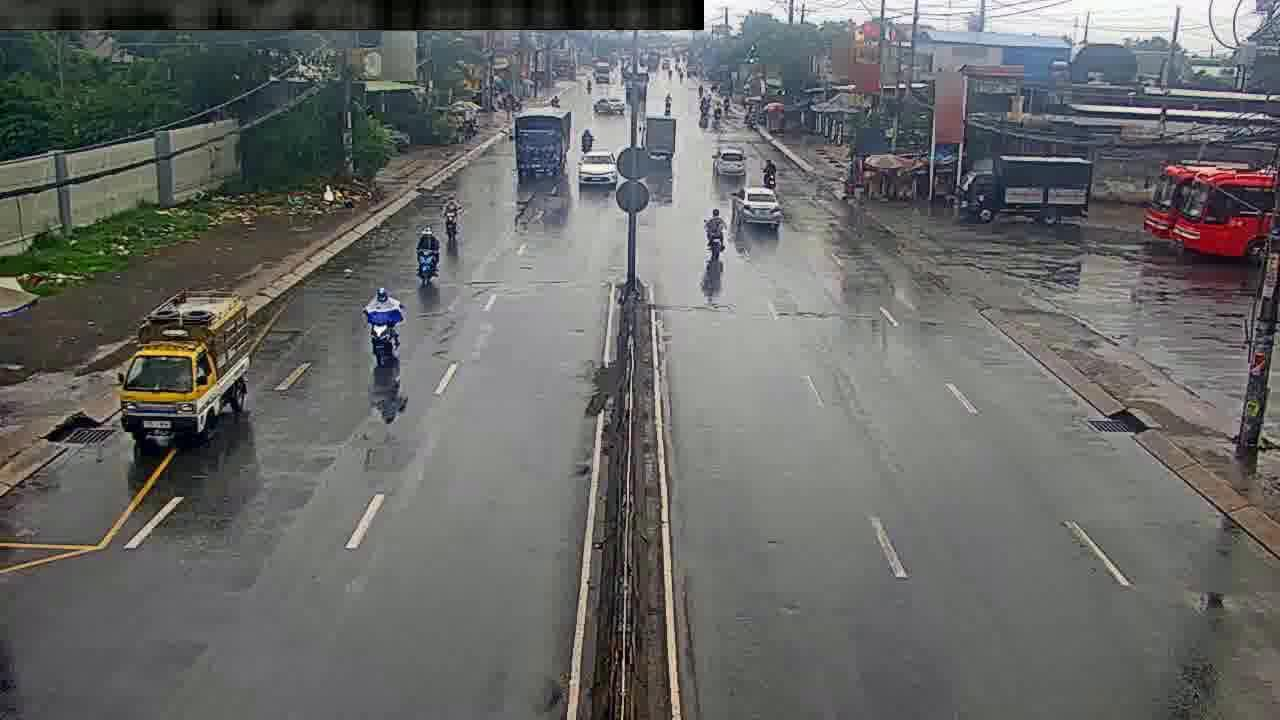8: (118, 296, 243, 449), (513, 108, 565, 177), (637, 110, 672, 156)
container: (733, 185, 782, 230), (578, 150, 614, 182)
motorbike: (365, 279, 404, 365), (414, 224, 445, 284), (705, 205, 726, 262), (762, 152, 783, 195), (443, 198, 462, 245), (580, 128, 595, 154)
